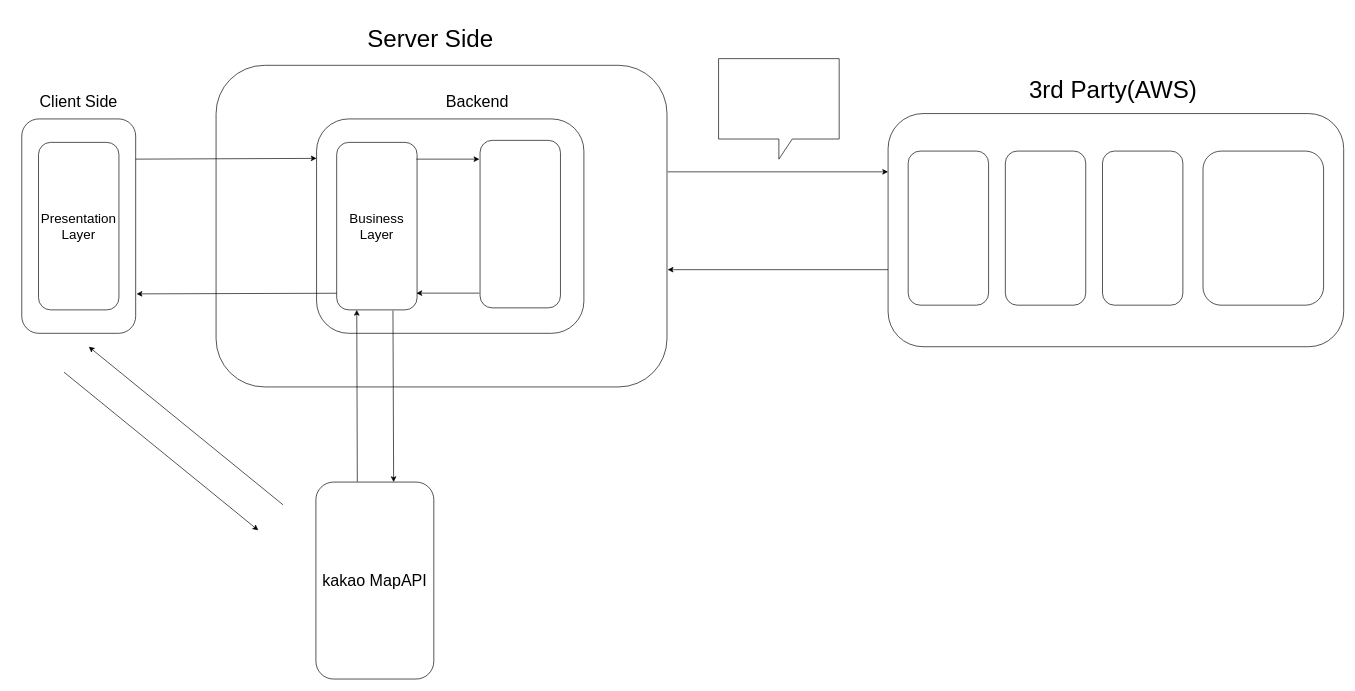
The diagram is 1355 pixels wide and 691 high, and some of its shapes have lost their labels. The shapes that lost their labels are listed below. From the top down, each one's centre as x and y in pixels, then its label:
At (778,108): "Redis(캐싱)".
At (519,224): "Persistence Layer".
